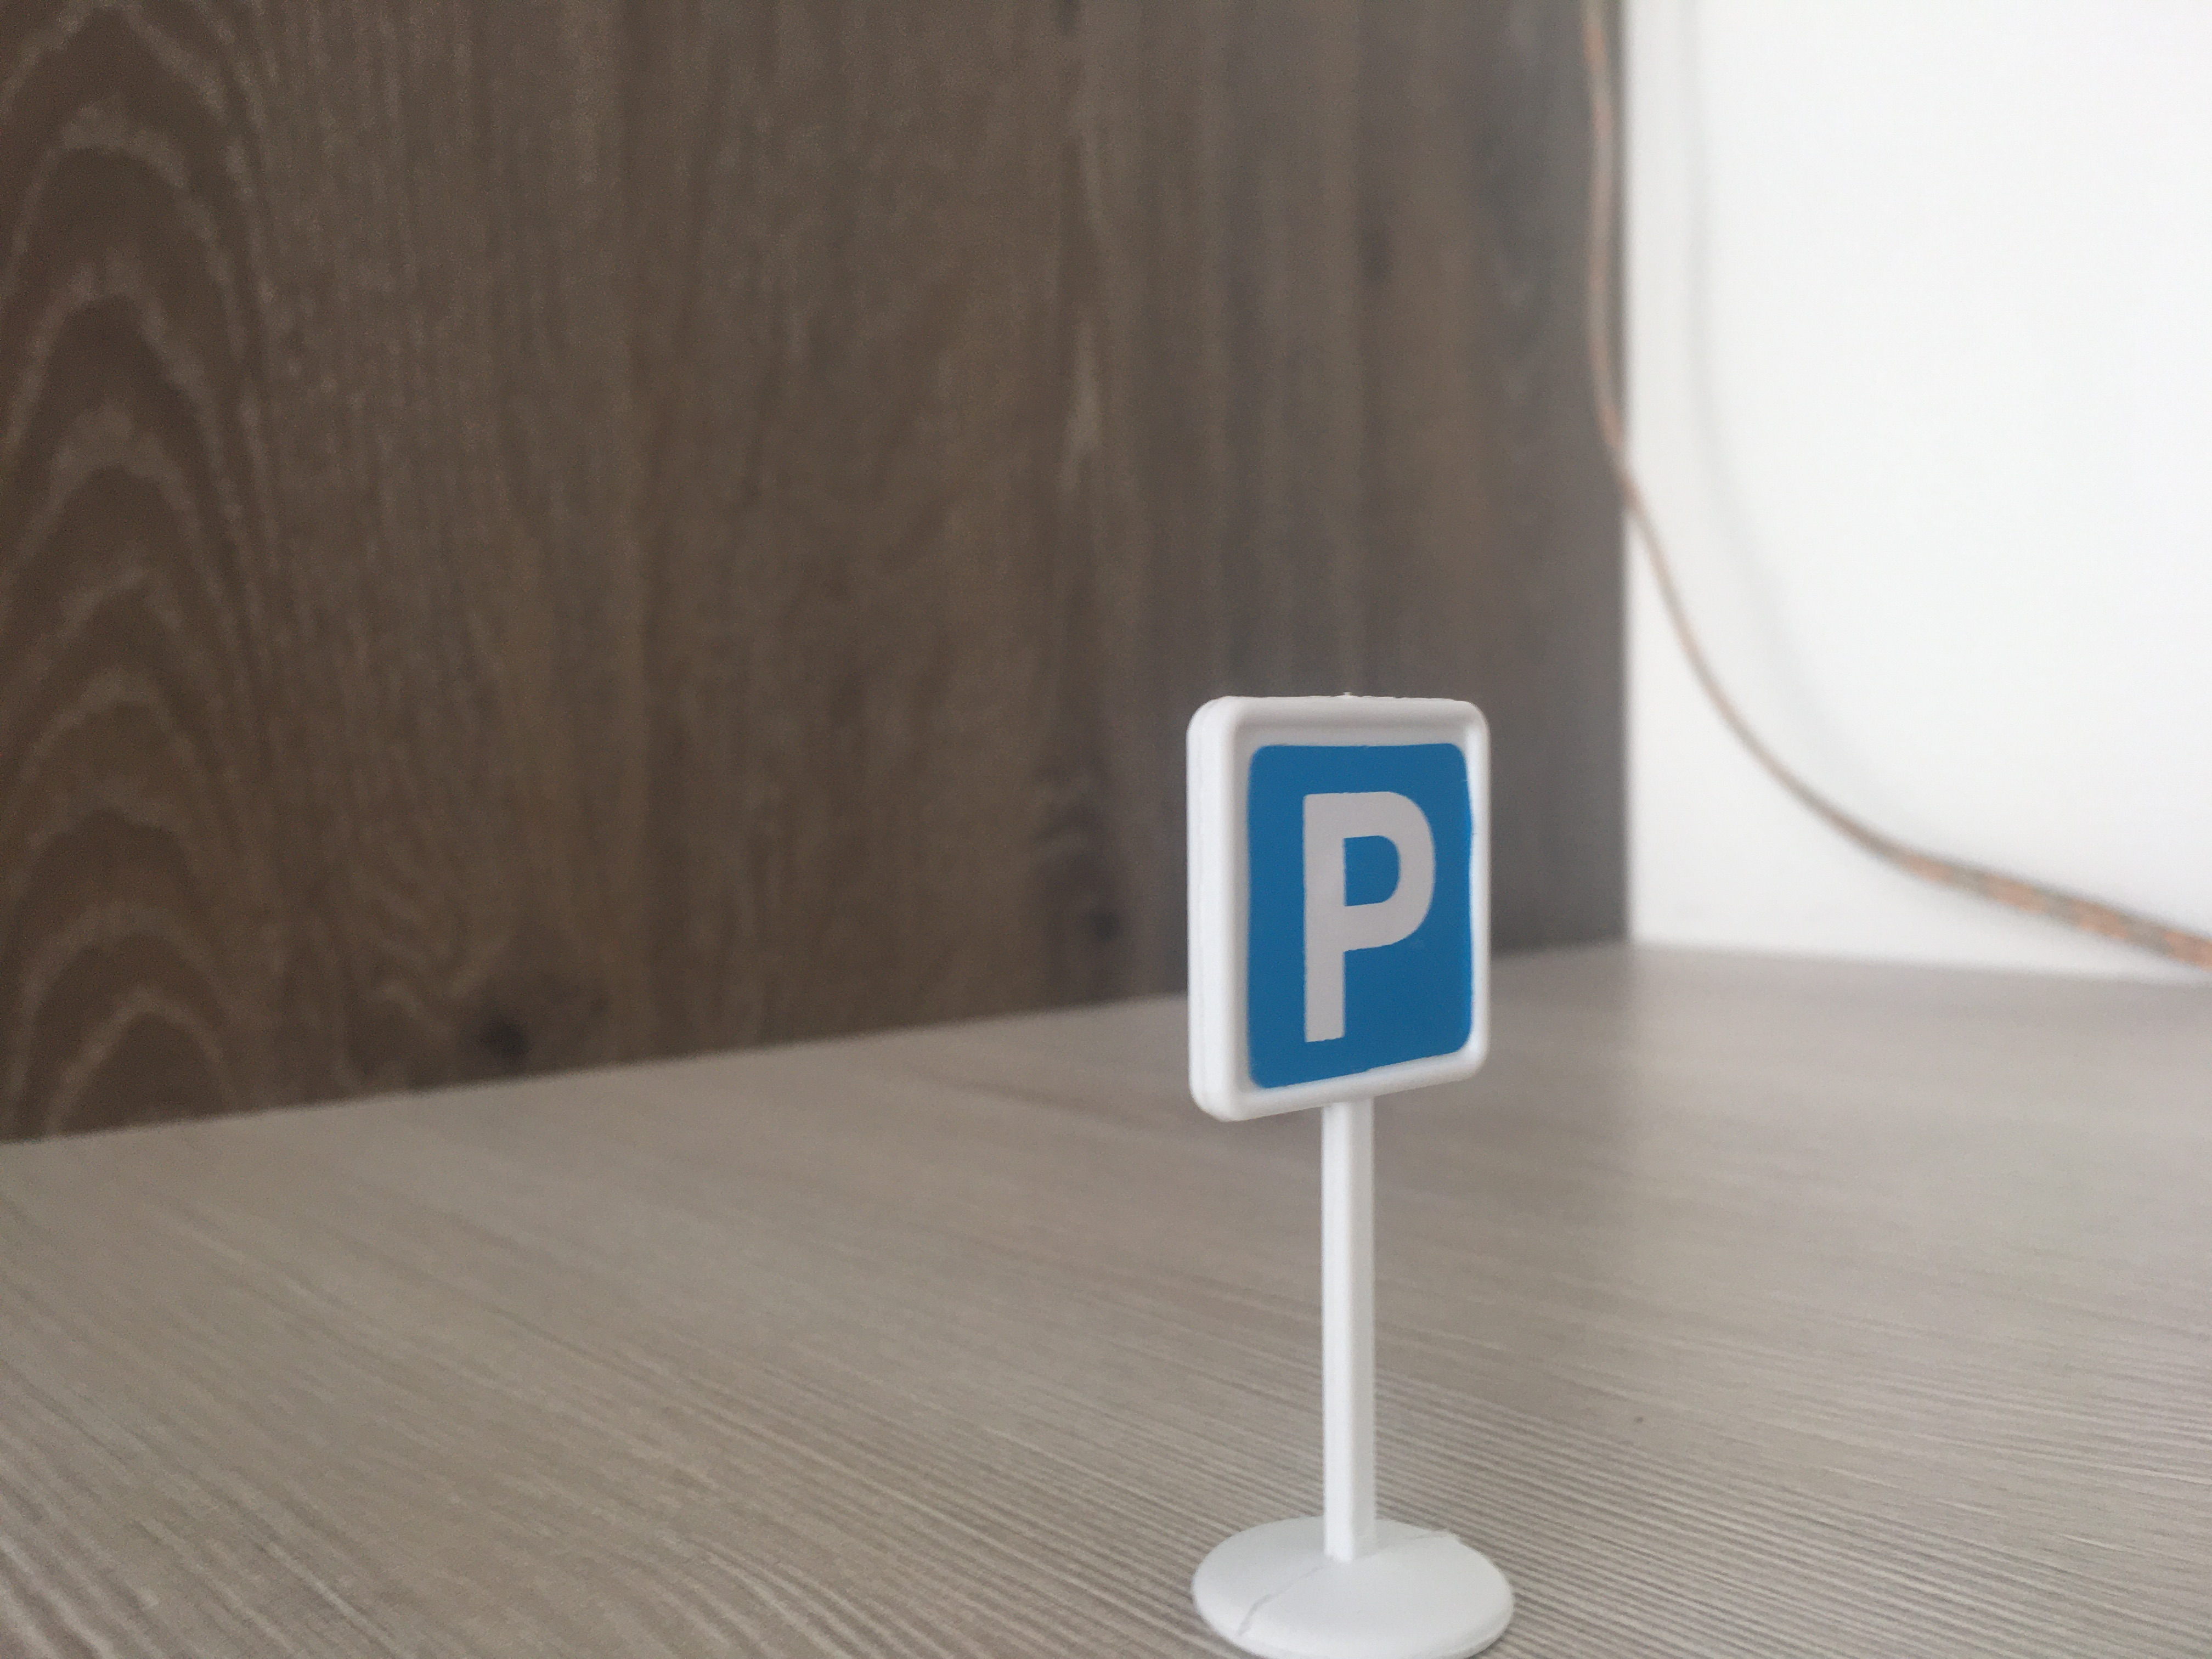parking: (1186, 695, 1496, 1127)
